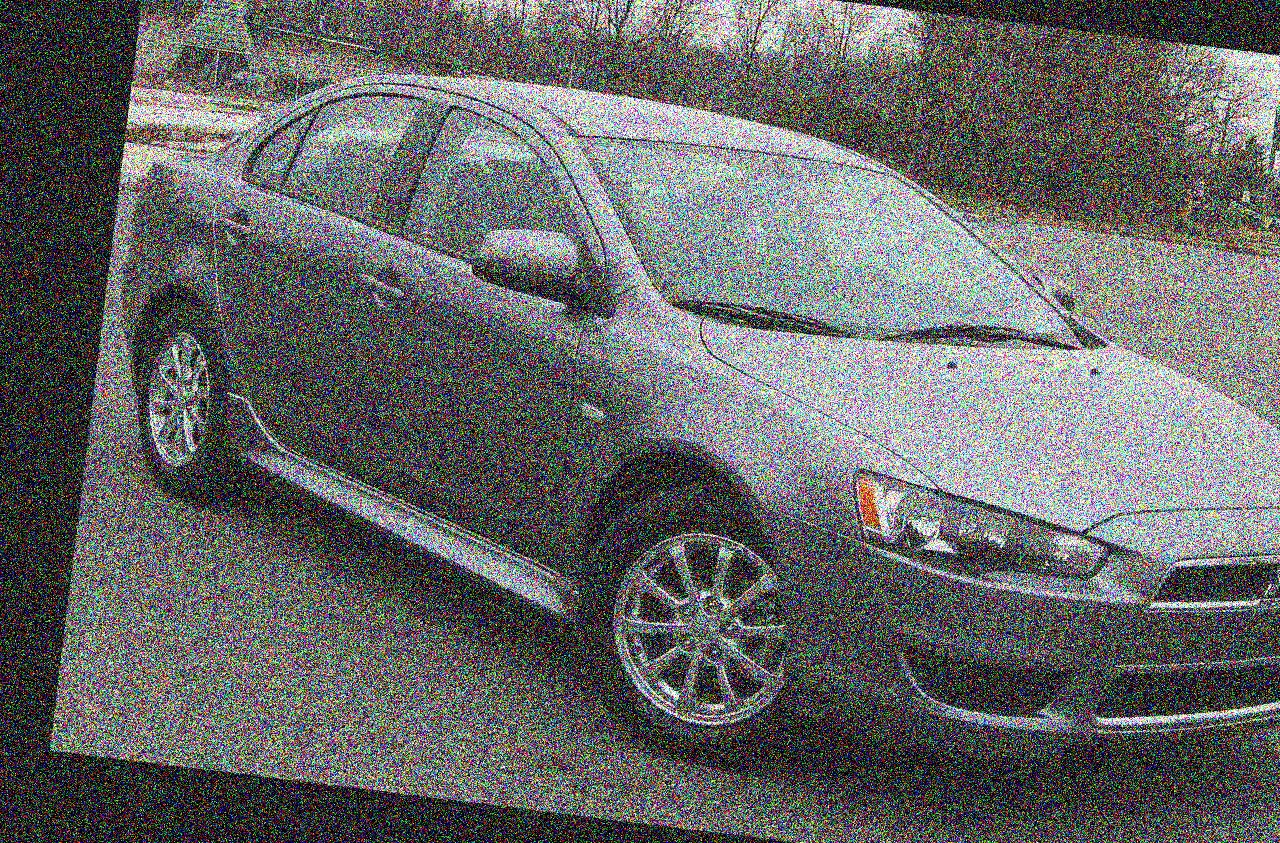car: (56, 0, 1280, 843)
